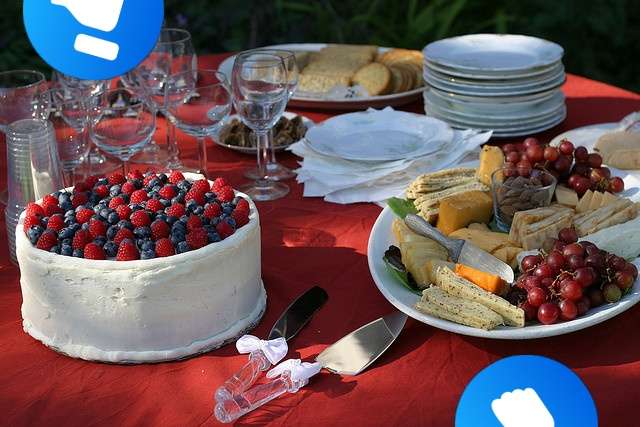like: (23, 0, 164, 80), (455, 355, 598, 427)
